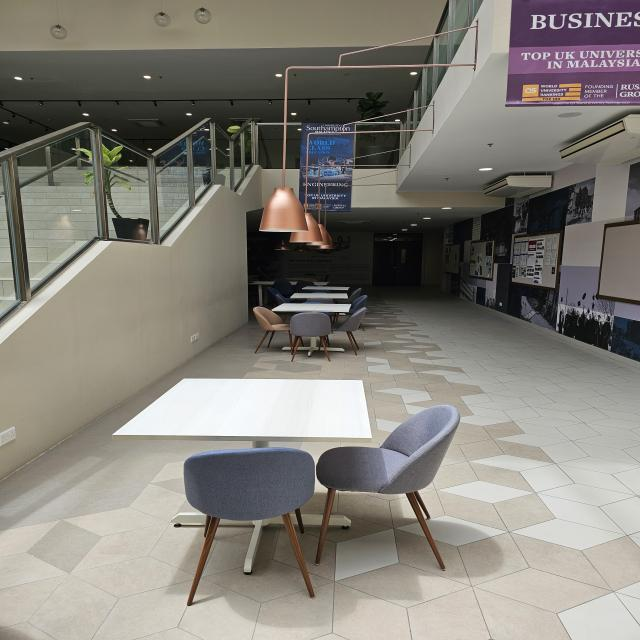footpath: (472, 372, 640, 640)
obstacle: (122, 369, 465, 580), (250, 296, 367, 354)
